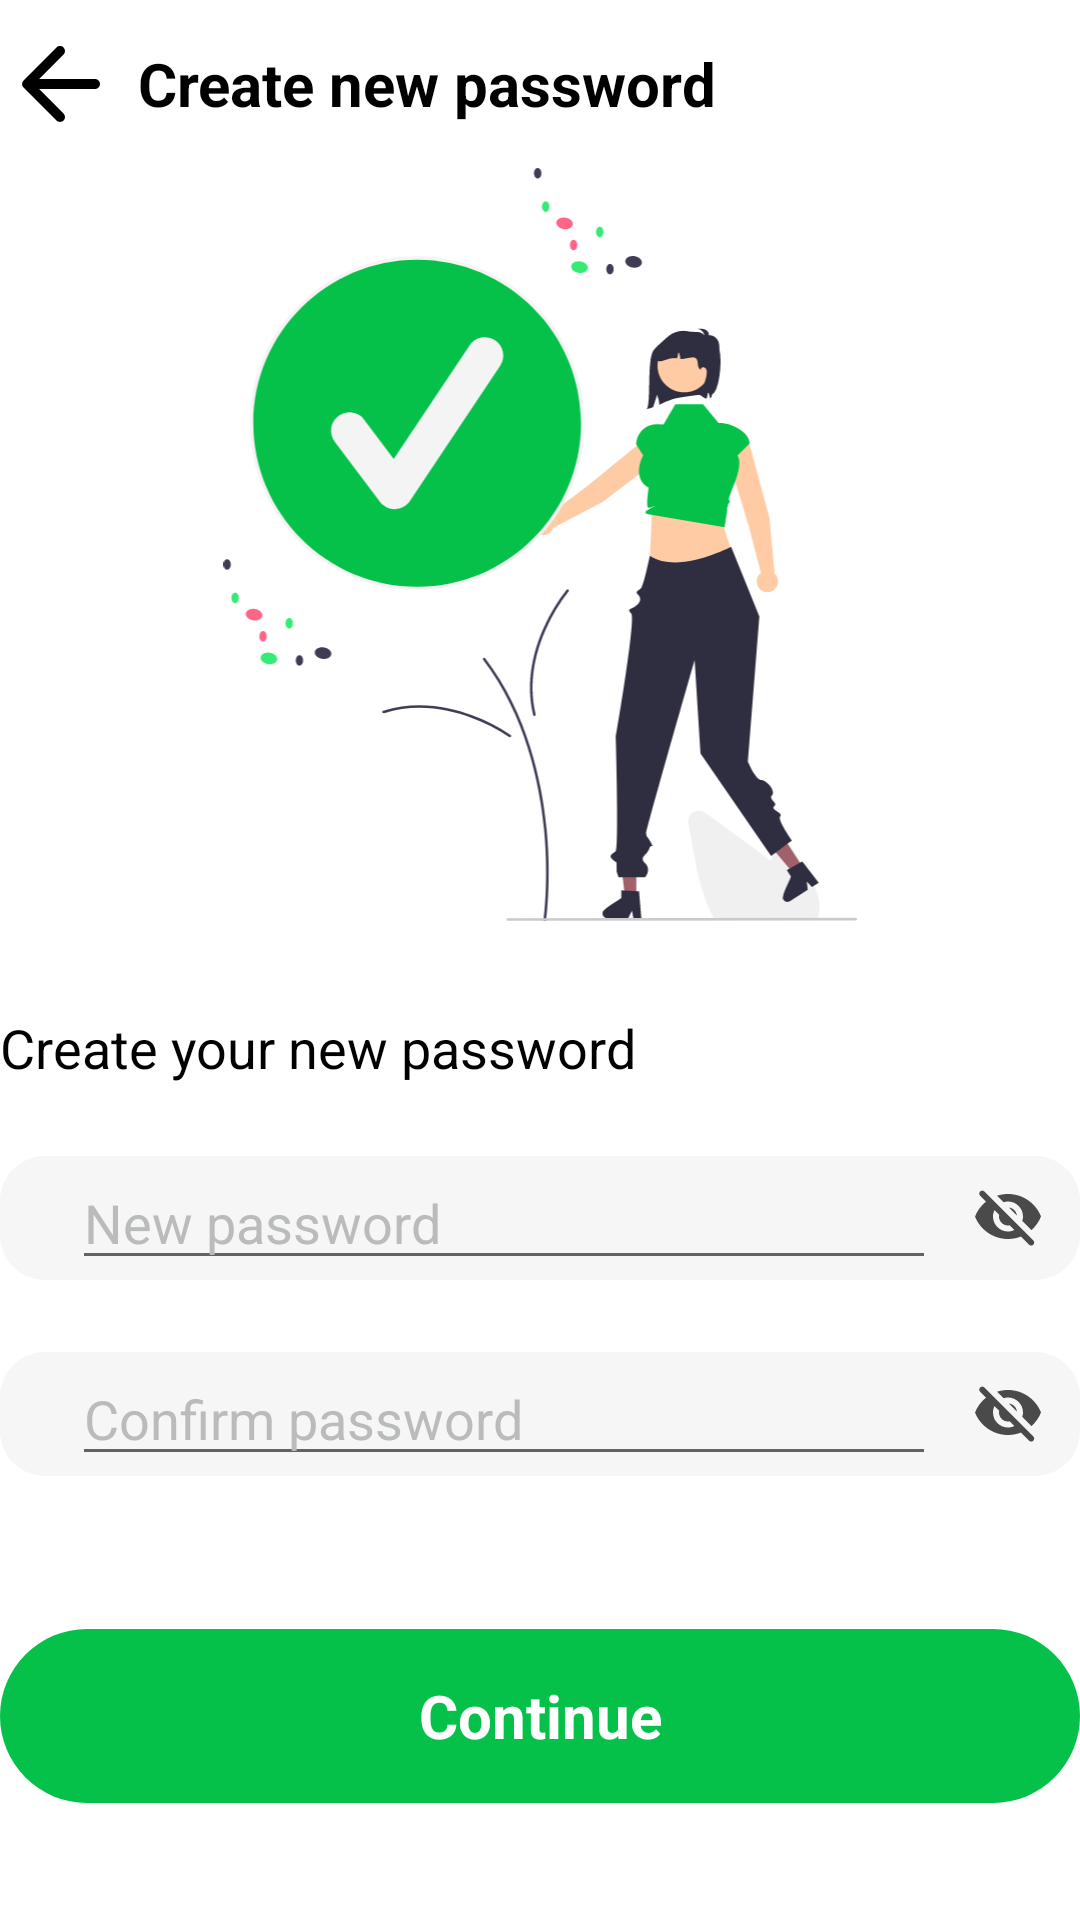

Where icons sit on this 1080px×1920px app screen, as box(x1, y1, x2, y2):
arrow back: box(22, 46, 100, 122)
hide pass: box(975, 1190, 1041, 1246), box(975, 1386, 1041, 1442)
